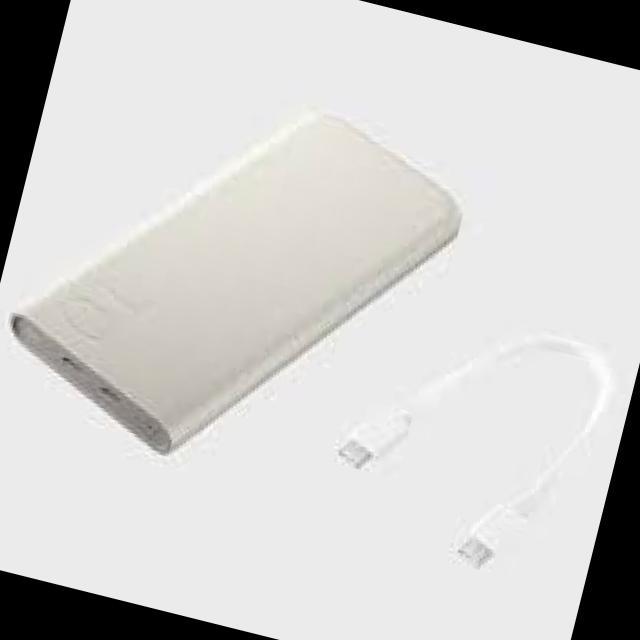power_bank: (0, 47, 481, 513)
